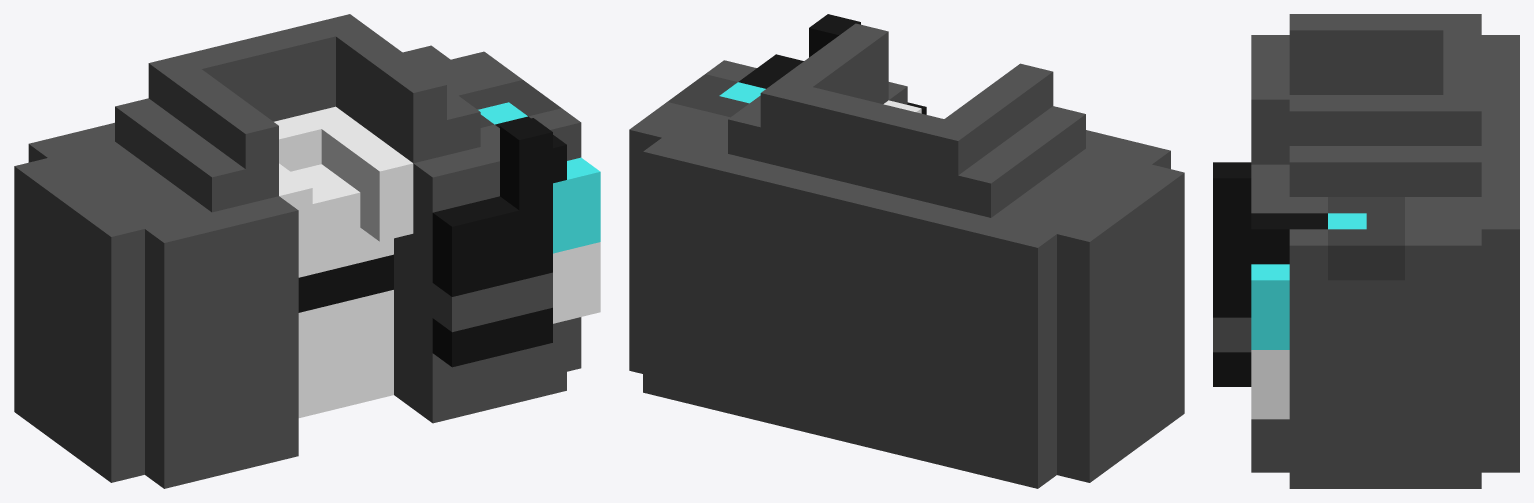
File: chest modeling.obj
3 renders of one model, left to right at view 1: azimuth 30°, elevation 25°; view 2: azimuth 150°, elevation 25°; view 3: azimuth 270°, elevation 25°, orthographic. The views are drawn at different scales.
Bounding box in the file's own units: 1.4 × 0.9 × 0.8.
Materials: 1 (1 with a texture image).
